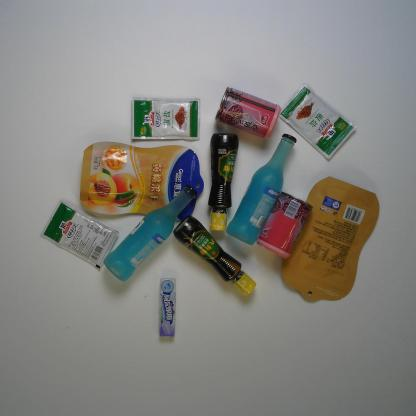Alcohol: (103, 184, 199, 281), (224, 133, 298, 247)
Candy: (158, 278, 176, 337)
Canned Food: (255, 191, 314, 260), (214, 85, 282, 141)
Dried Fruit: (280, 175, 380, 304), (80, 141, 204, 223)
Seasoner: (172, 214, 256, 297), (278, 83, 357, 160), (39, 197, 119, 270), (207, 131, 239, 232), (131, 96, 201, 141)
